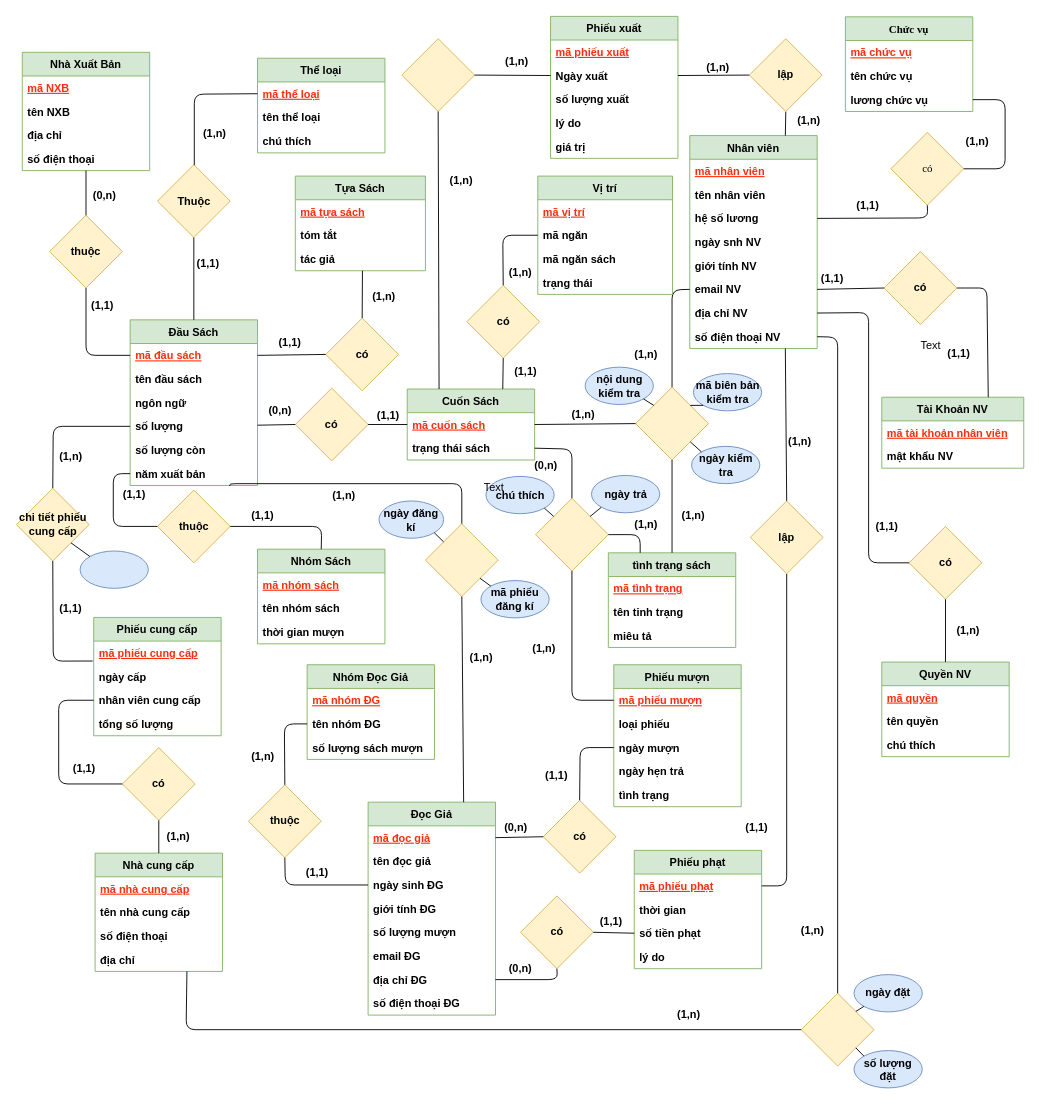
The diagram is 1039 pixels wide and 1104 high, and some of its shapes have lost their labels. Each missing label, with the centre of its shape:
"Chi tiết phiếu mượn" goes at point 571,534.
"chi tiết phiếu xuất" goes at point 438,74.
"kiểm tra đáng giá" goes at point 671,423.
"số lượng cấp" goes at point 113,569.
"đăng kí mượn" goes at point 461,560.
"đặt" goes at point 837,1029.
